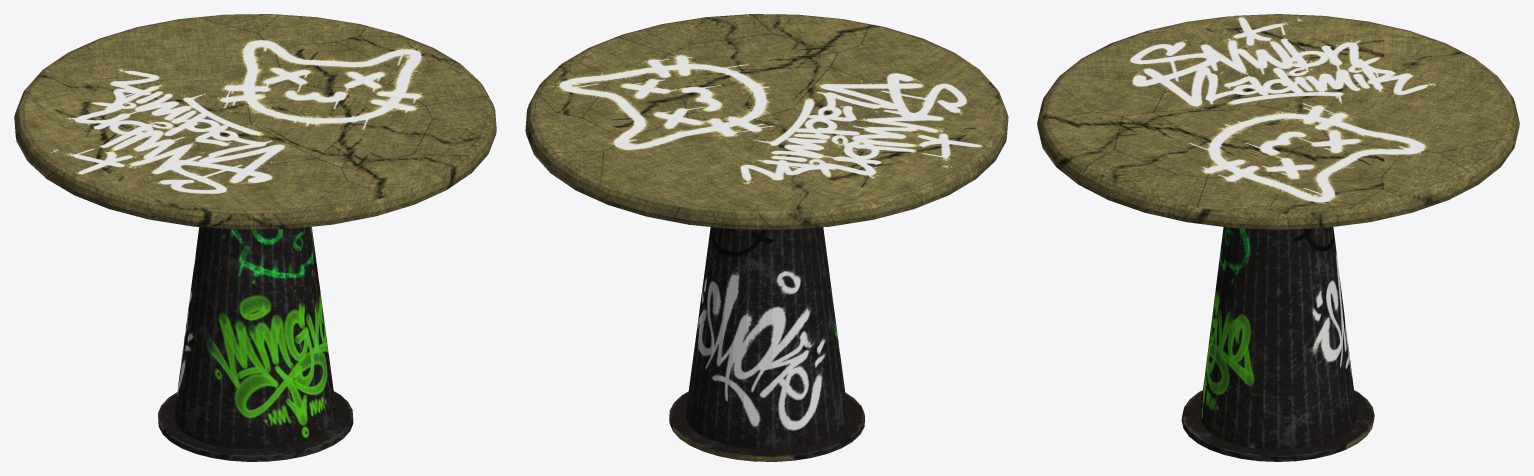
Rendered from Ext_Mesa_V1.glb.
3 renders of one model, left to right at view 1: azimuth 30°, elevation 25°; view 2: azimuth 150°, elevation 25°; view 3: azimuth 270°, elevation 25°, orthographic.
Parts seen in each view (by area): view 1: Ext_Mesa_V1; view 2: Ext_Mesa_V1; view 3: Ext_Mesa_V1.
Part boxes in pixels (x1,y1,x2,y2): Ext_Mesa_V1: [14, 14, 496, 461]; Ext_Mesa_V1: [525, 14, 1008, 461]; Ext_Mesa_V1: [1037, 14, 1519, 461].
Bounding box in the file's own units: 1.28 × 0.9001 × 1.28.
1 material, 1 textured.
